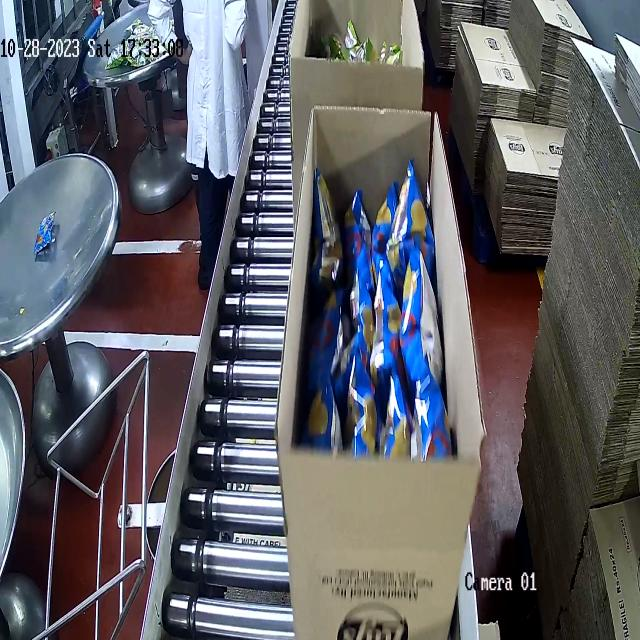PAPRIKA: (293, 170, 434, 462)
